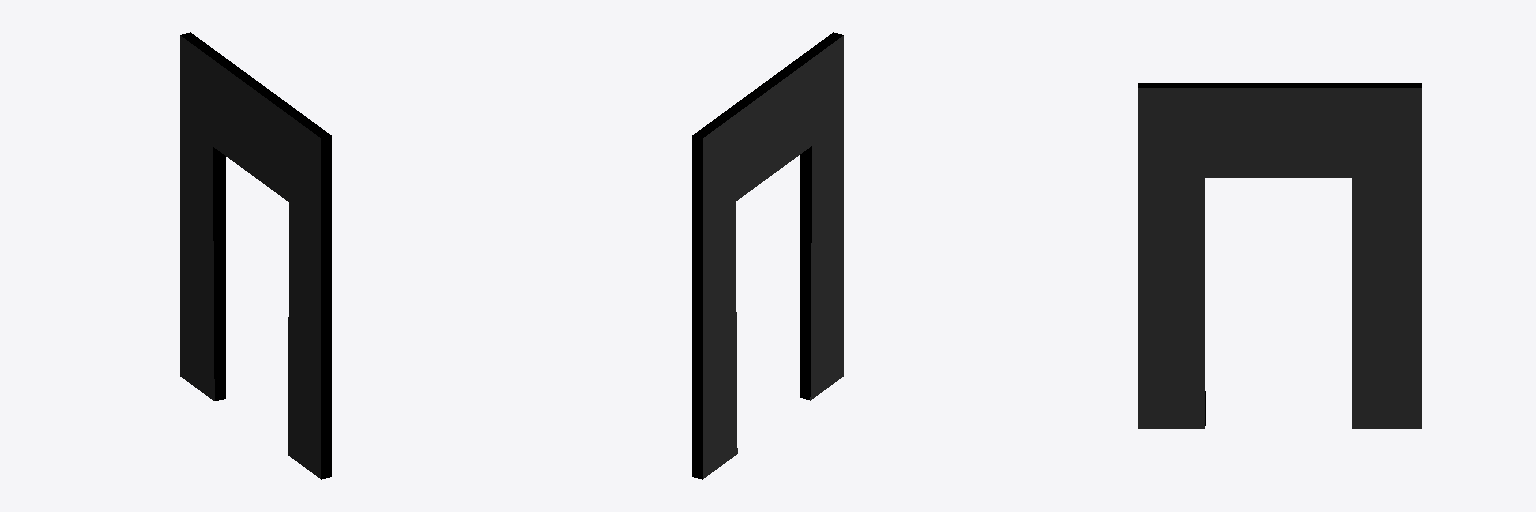
The model's file is DoorWall2.obj.
The picture shows the model from 3 angles: view 1: azimuth 30°, elevation 25°; view 2: azimuth 150°, elevation 25°; view 3: azimuth 270°, elevation 25°; orthographic projection.
Visible parts, largest first — view 1: DoorWall2; view 2: DoorWall2; view 3: DoorWall2.
Boxes of the visible parts, x1=… form: DoorWall2: x1=180, y1=32, x2=331, y2=479; DoorWall2: x1=692, y1=32, x2=843, y2=479; DoorWall2: x1=1138, y1=83, x2=1421, y2=428.
Bounding box in the file's own units: 0.1 × 3 × 2.25.